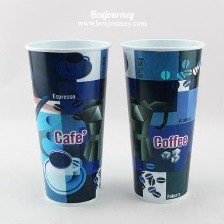paper_cup: (19, 36, 116, 209), (116, 35, 207, 208)
